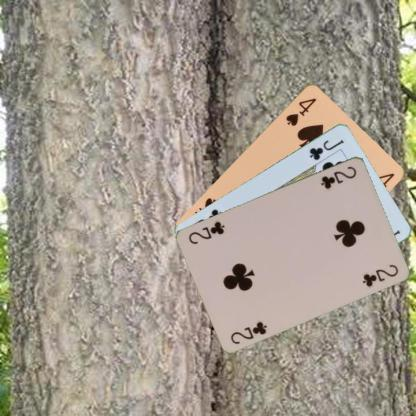2c: (228, 318, 268, 346), (318, 163, 358, 190)
4s: (283, 95, 318, 127)
Jc: (307, 137, 345, 161)
